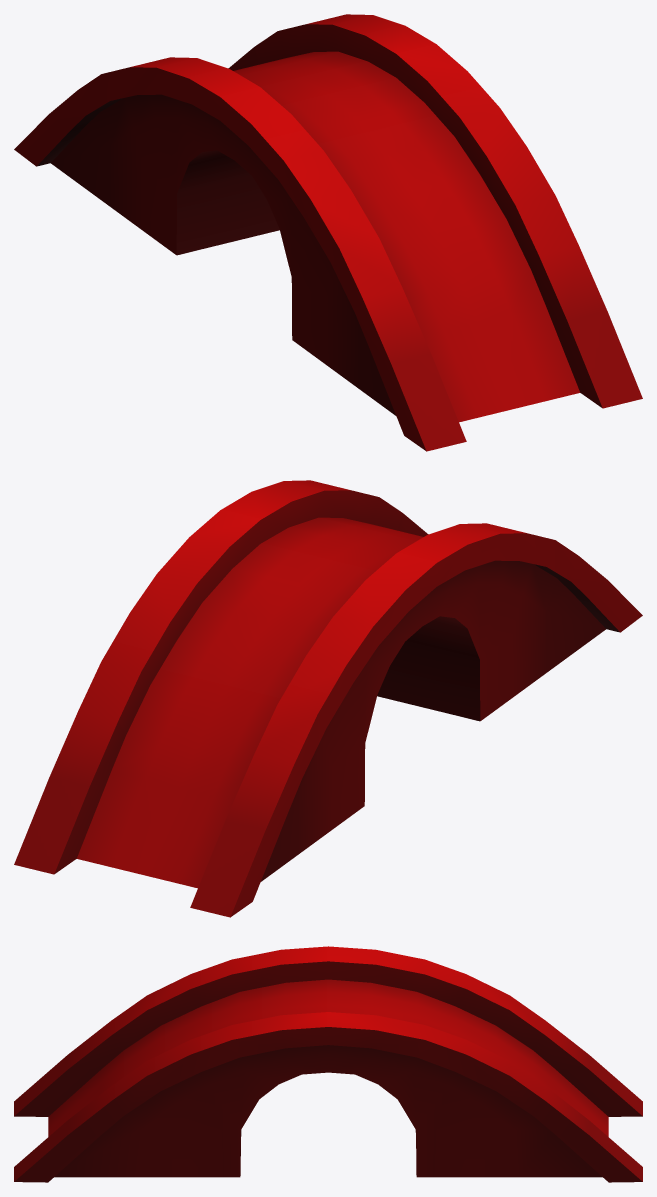
File: SimpleBridge.glb
3 views of the same model, one above another, from view 1: azimuth 30°, elevation 25°; view 2: azimuth 150°, elevation 25°; view 3: azimuth 270°, elevation 25° (orthographic). The views are drawn at different scales.
Parts seen in each view (by area): view 1: SimpleBridge; view 2: SimpleBridge; view 3: SimpleBridge.
Boxes of the visible parts, x1,y1,x2,y2 form: SimpleBridge: (14, 14, 642, 451); SimpleBridge: (14, 480, 642, 917); SimpleBridge: (14, 946, 642, 1182).
Size of the model in its own units: 24.68 by 22.26 by 81.53.
